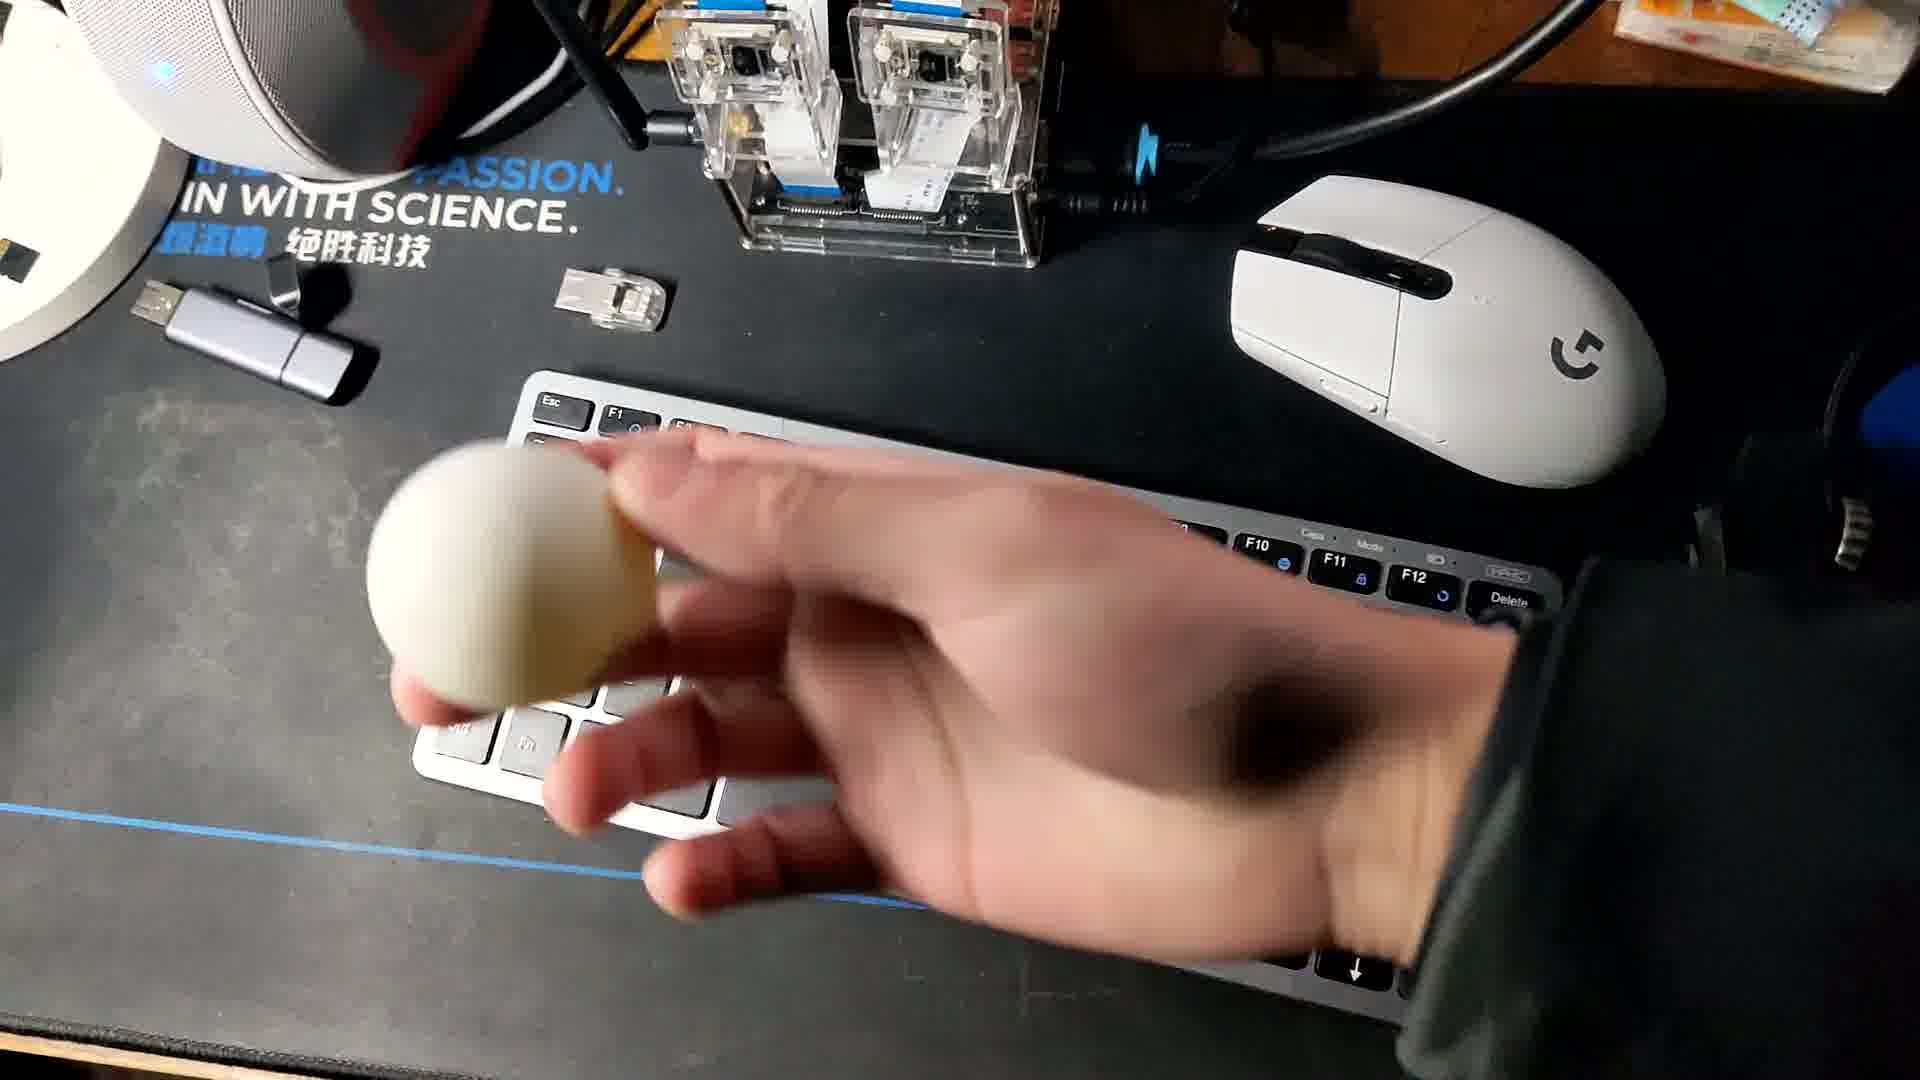Ball: (378, 440, 649, 708)
